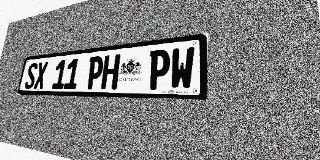1: (63, 58, 81, 89), (52, 59, 68, 89)
H: (101, 54, 121, 89)
P: (147, 49, 171, 89), (85, 56, 104, 89)
S: (24, 62, 38, 89)
W: (169, 46, 195, 90)
X: (33, 61, 48, 89)
